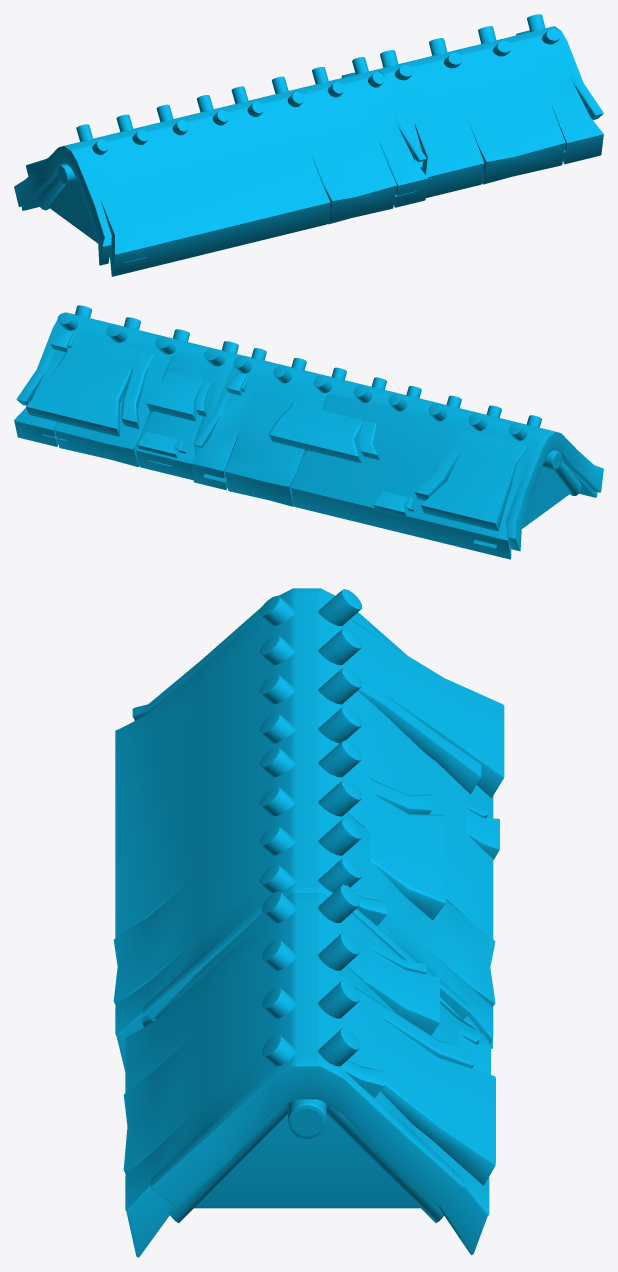
Rendered from SM_Clay_Roof_05.fbx.
3 renders of one model, top to bottom at view 1: azimuth 30°, elevation 25°; view 2: azimuth 150°, elevation 25°; view 3: azimuth 270°, elevation 25°, orthographic. The views are drawn at different scales.
Visible parts, largest first — view 1: SM_Clay_Roof_05; view 2: SM_Clay_Roof_05; view 3: SM_Clay_Roof_05.
Boxes of the visible parts, x1,y1,x2,y2 form: SM_Clay_Roof_05: (14,14,603,276); SM_Clay_Roof_05: (14,305,603,559); SM_Clay_Roof_05: (113,588,504,1257).
Size of the model in its own units: 3.15 by 0.6441 by 1.05.
